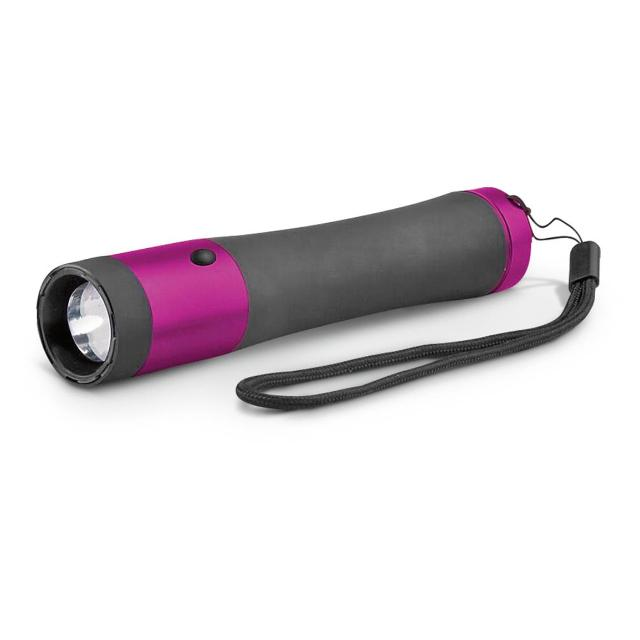Flashlight: (29, 176, 607, 422)
